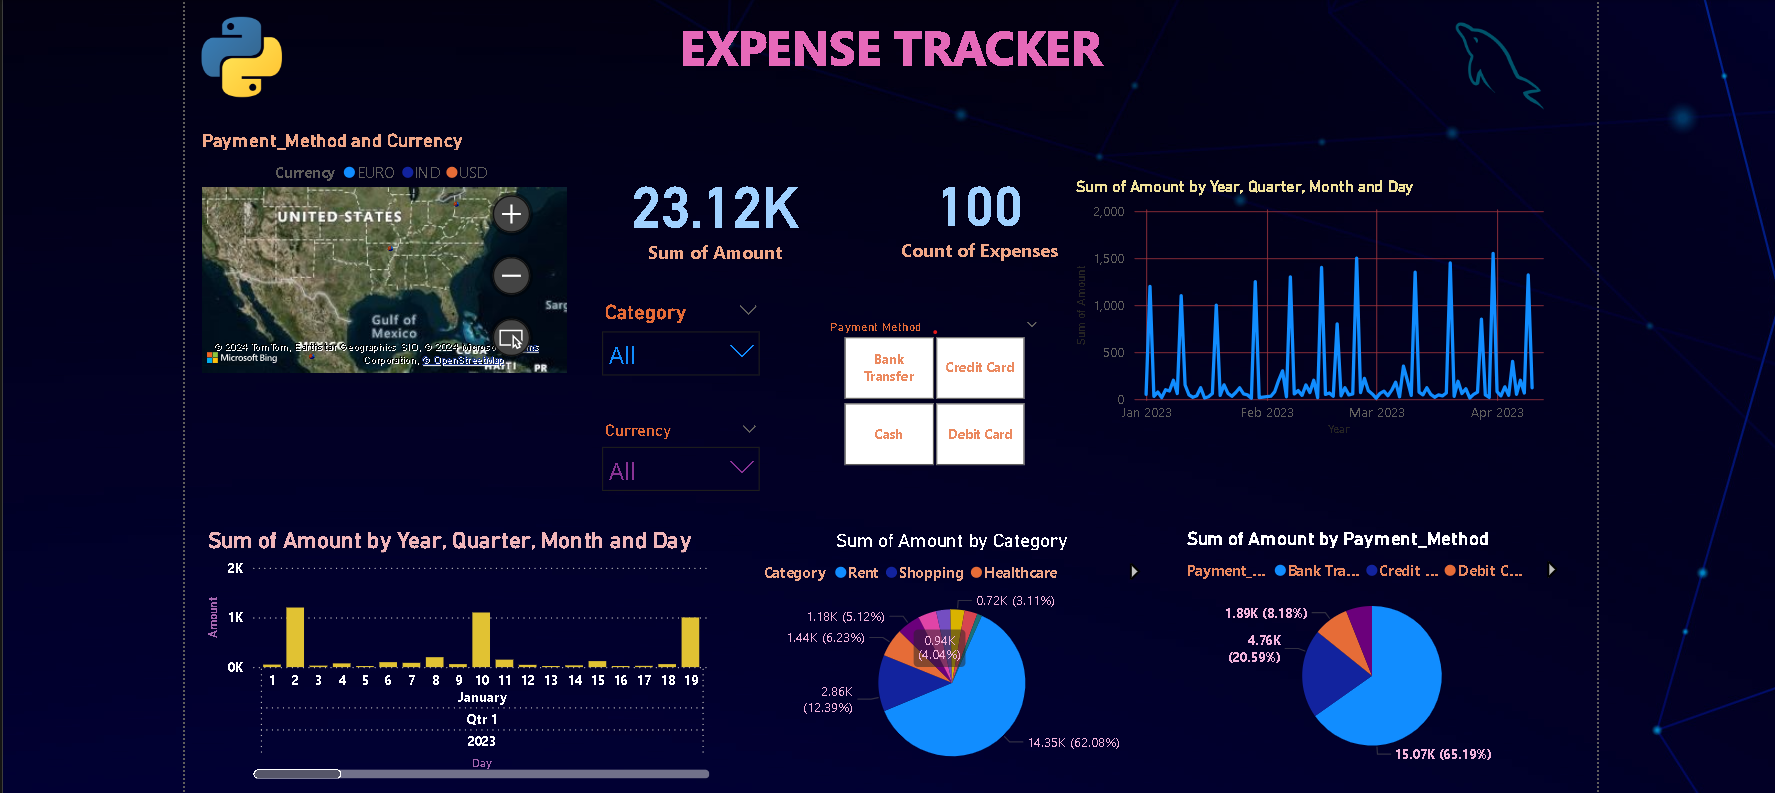

This screenshot's page, from the dashboard's own definition file:
{"tool":"powerbi","page":{"name":"Dashboard","canvas":[1280,720],"ordinal":0},"visuals":[{"type":"card","fields":{"Values":["Sum(Expenses.Amount)"]},"box":[382.7,136,195.9,112.4],"z":0},{"type":"pieChart","fields":{"Category":["Expenses.Category"],"Y":["Sum(Expenses.Amount)"]},"box":[519.6,479.7,351.8,231.2],"z":1000},{"type":"pieChart","fields":{"Category":["Expenses.Payment_Method"],"Y":["Sum(Expenses.Amount)"]},"box":[903.2,477.9,346.4,222.2],"z":2000},{"type":"lineChart","fields":{"Category":["Expenses.Expense_Date.Variation.Date Hierarchy.Year","Expenses.Expense_Date.Variation.Date Hierarchy.Quarter","Expenses.Expense_Date.Variation.Date Hierarchy.Month","Expenses.Expense_Date.Variation.Date Hierarchy.Day"],"Y":["Sum(Expenses.Amount)"]},"box":[802.5,161.4,447.1,238.5],"z":3000},{"type":"columnChart","fields":{"Category":["Expenses.Expense_Date.Variation.Date Hierarchy.Year","Expenses.Expense_Date.Variation.Date Hierarchy.Quarter","Expenses.Expense_Date.Variation.Date Hierarchy.Month","Expenses.Expense_Date.Variation.Date Hierarchy.Day"],"Y":["Sum(Expenses.Amount)"]},"box":[15.4,477.9,465.2,233],"z":6000},{"type":"map","fields":{"Series":["Expenses.Currency"],"Category":["Expenses.Payment_Method"]},"box":[10,117,341,226.7],"z":6001},{"type":"card","fields":{"Values":["Count(Expenses)"]},"box":[590.3,88.9,260.3,205.8],"z":6002},{"type":"textbox","box":[280.2,7.3,720,68.9],"z":6003},{"type":"image","box":[1116.3,15.4,152.3,88.9],"z":6004},{"type":"image","box":[10,7.3,83.4,88.9],"z":6005},{"type":"slicer","fields":{"Values":["Expenses.Category"]},"box":[368.2,267.5,163.2,76.2],"z":6006},{"type":"slicer","fields":{"Values":["Expenses.Currency"]},"box":[368.2,377.2,163.2,81.6],"z":6007},{"type":"slicer","fields":{"Values":["Expenses.Payment_Method"]},"box":[572.2,284.7,213.1,144.2],"z":6008}]}

Visuals, with their boxes on the page's 1280x720 design canvas (x1, y1, x2, y2). These are canvas units, not pixel positions in the 1775x793 screenshot, which may show the page scaled, cropped or inside an application window:
card - Sum(Expenses.Amount): rect(383, 136, 579, 248)
pieChart - Expenses.Category x Sum(Expenses.Amount): rect(520, 480, 871, 711)
pieChart - Expenses.Payment_Method x Sum(Expenses.Amount): rect(903, 478, 1250, 700)
lineChart - Expenses.Expense_Date.Variation.Date Hierarchy.Year x Expenses.Expense_Date.Variation.Date Hierarchy.Quarter: rect(802, 161, 1250, 400)
columnChart - Expenses.Expense_Date.Variation.Date Hierarchy.Year x Expenses.Expense_Date.Variation.Date Hierarchy.Quarter: rect(15, 478, 481, 711)
map - Expenses.Currency x Expenses.Payment_Method: rect(10, 117, 351, 344)
card - Count(Expenses): rect(590, 89, 851, 295)
textbox: rect(280, 7, 1000, 76)
image: rect(1116, 15, 1269, 104)
image: rect(10, 7, 93, 96)
slicer - Expenses.Category: rect(368, 268, 531, 344)
slicer - Expenses.Currency: rect(368, 377, 531, 459)
slicer - Expenses.Payment_Method: rect(572, 285, 785, 429)
